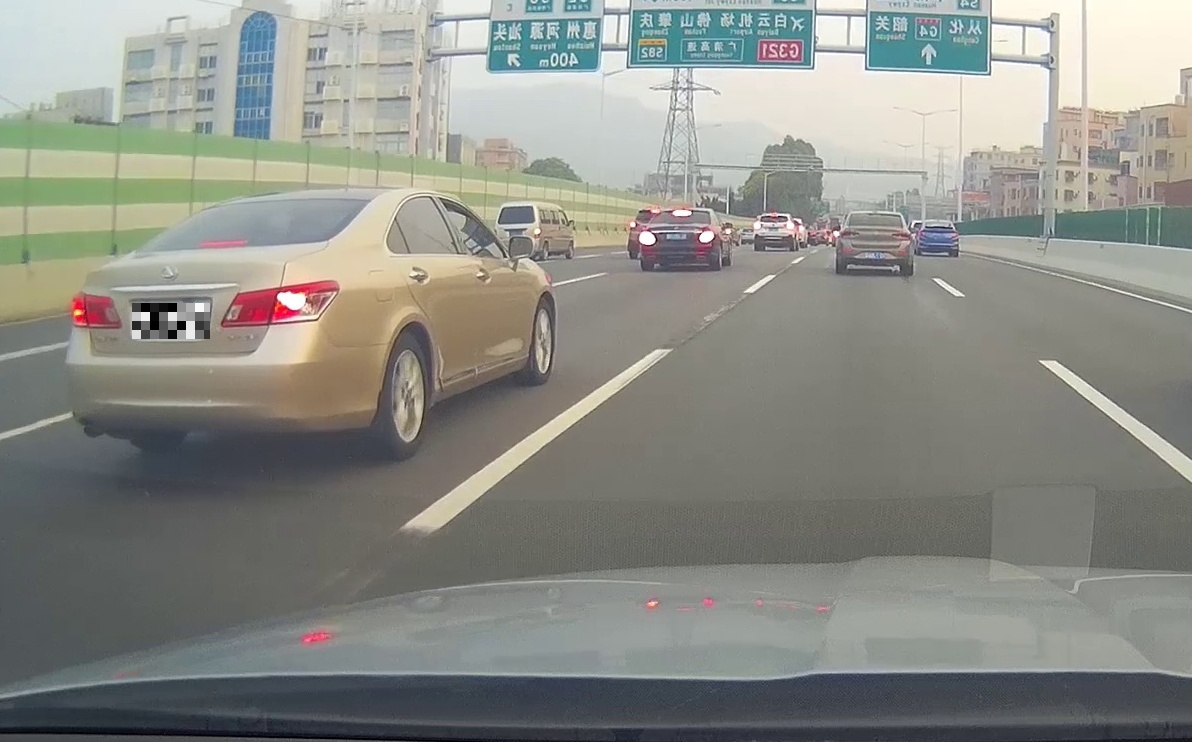L_light: (70, 290, 122, 329), (638, 231, 657, 246), (841, 231, 860, 238), (753, 223, 762, 230), (918, 231, 925, 238)
R_light: (220, 279, 341, 328), (698, 230, 715, 244), (893, 232, 911, 240), (951, 231, 959, 240), (786, 223, 795, 229)
T_light: (197, 240, 248, 250), (672, 210, 692, 216), (869, 213, 881, 217), (771, 214, 778, 218), (935, 221, 941, 224)
day-brake: (638, 207, 717, 271), (753, 213, 795, 252)
day-no: (836, 211, 914, 275), (917, 220, 959, 256)
day-right: (64, 188, 384, 462)
plate_1: (132, 303, 210, 339)
